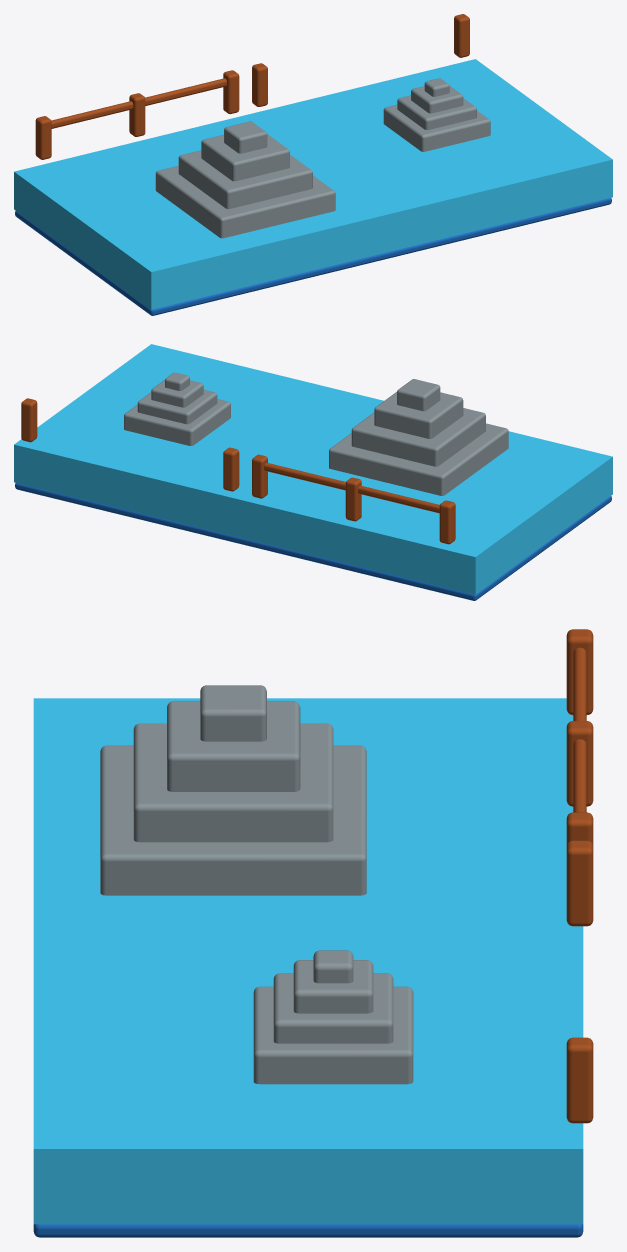
The model's file is Water.fbx.
3 renders of one model, top to bottom at view 1: azimuth 30°, elevation 25°; view 2: azimuth 150°, elevation 25°; view 3: azimuth 270°, elevation 25°, orthographic. The views are drawn at different scales.
Parts seen in each view (by area): view 1: WaterSurface, Rock0, Bed, Rock1, Rock2, Rock0.001, Rail, Rock1.001, Rock3, Rock2.001, RailPost, RailPost.001 (+3 smaller); view 2: WaterSurface, Rock0, Bed, Rock1, Rock2, Rock0.001, Rail, Rock1.001, Rock3, Rock2.001, RailPost, PathPost (+4 smaller); view 3: WaterSurface, Rock0, Rock1, Rock2, Rock0.001, Bed, Rock1.001, Rock3, Rock2.001, PathPost, PathPost.001, Rail (+4 smaller).
Part boxes in pixels (box(x1,y1,x2,y2)): WaterSurface: box(14, 59, 612, 309); Rock0: box(155, 166, 335, 238); Bed: box(15, 198, 611, 315); Rock1: box(178, 150, 312, 209); Rock2: box(201, 134, 289, 181); Rock0.001: box(383, 105, 490, 151); Rail: box(51, 78, 226, 128); Rock1.001: box(397, 95, 476, 130); Rock3: box(224, 121, 267, 153); Rock2.001: box(411, 85, 463, 113); RailPost: box(35, 116, 51, 159); RailPost.001: box(129, 93, 145, 136); WaterSurface: box(14, 344, 612, 594); Rock0: box(329, 423, 508, 495); Bed: box(15, 483, 611, 600); Rock1: box(351, 408, 485, 466); Rock2: box(374, 392, 463, 438); Rock0.001: box(124, 399, 230, 445); Rail: box(264, 462, 439, 513); Rock1.001: box(137, 389, 217, 424); Rock3: box(397, 379, 440, 411); Rock2.001: box(151, 380, 203, 407); RailPost: box(439, 500, 455, 544); PathPost: box(223, 447, 239, 491); WaterSurface: box(33, 698, 583, 1224); Rock0: box(100, 745, 366, 895); Rock1: box(133, 723, 333, 842); Rock2: box(167, 701, 300, 791); Rock0.001: box(253, 986, 413, 1084); Bed: box(33, 1224, 583, 1237); Rock1.001: box(273, 973, 393, 1043); Rock3: box(200, 685, 266, 741); Rock2.001: box(293, 960, 373, 1013); PathPost: box(566, 840, 593, 926); PathPost.001: box(566, 1037, 593, 1123); Rail: box(573, 647, 586, 812).
Bounding box in the file's own units: 3200 × 770 × 1680.
